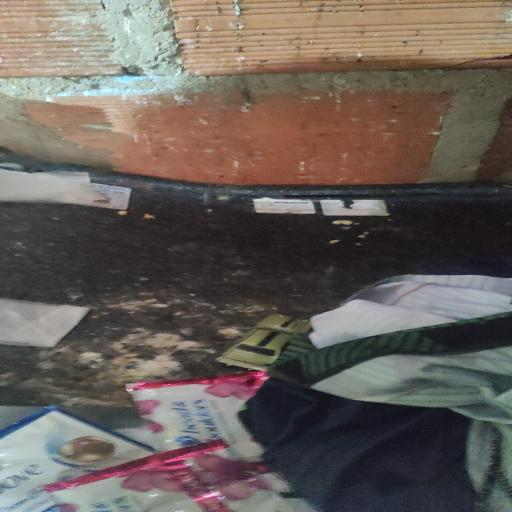Carrito: (217, 315, 310, 371)
